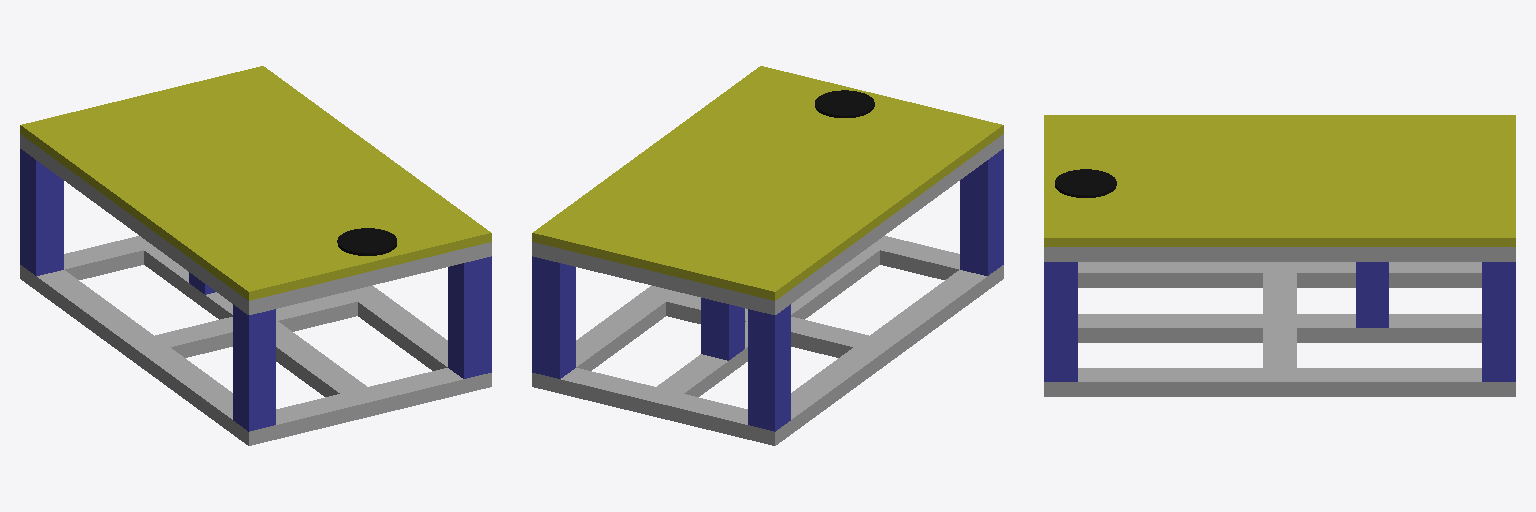
--- Facts derived from the render (not from the file) ---
Views: 3 orthographic renders of the robot side by side, from view 1: azimuth 30°, elevation 25°; view 2: azimuth 150°, elevation 25°; view 3: azimuth 270°, elevation 25°.
Robot: ur5_hitbot_with_ilc_platform — 32 links, 31 joints (6 revolute, 25 fixed); root link world; default pose: every joint at zero.
Visible links, largest first — view 1: operation_surface, beam_right_bottom, beam_front_bottom, beam_support_front_right, beam_support_front_left, beam_middle_bottom, beam_support_back_right, beam_front_top, beam_left_bottom, beam_right_top, beam_back_bottom, beam_connect_left_bottom (+2 smaller); view 2: operation_surface, beam_right_bottom, beam_back_bottom, beam_support_back_right, beam_support_back_left, beam_support_front_right, beam_middle_bottom, beam_back_top, beam_left_bottom, beam_right_top, beam_front_bottom, beam_support_robot_bottom (+3 smaller); view 3: operation_surface, beam_left_bottom, beam_middle_bottom, beam_right_bottom, beam_left_top, beam_support_front_left, beam_support_back_left, beam_support_robot_bottom, robot_install_plate, beam_connect_right_bottom, beam_connect_left_bottom.
Link boxes in pixels (<box>): operation_surface: <box>20,66,491,300</box>; beam_right_bottom: <box>36,270,232,433</box>; beam_front_bottom: <box>233,368,491,445</box>; beam_support_front_right: <box>233,304,275,431</box>; beam_support_front_left: <box>448,256,491,378</box>; beam_middle_bottom: <box>144,247,366,396</box>; beam_support_back_right: <box>20,149,63,275</box>; beam_front_top: <box>233,242,491,314</box>; beam_left_bottom: <box>345,285,447,370</box>; beam_right_top: <box>36,146,232,303</box>; beam_back_bottom: <box>20,236,154,289</box>; beam_connect_left_bottom: <box>276,292,357,331</box>; operation_surface: <box>532,66,1003,300</box>; beam_right_bottom: <box>791,270,987,433</box>; beam_back_bottom: <box>532,368,790,445</box>; beam_support_back_right: <box>748,304,790,431</box>; beam_support_back_left: <box>532,256,575,378</box>; beam_support_front_right: <box>960,149,1003,275</box>; beam_middle_bottom: <box>657,247,879,396</box>; beam_back_top: <box>532,242,790,314</box>; beam_left_bottom: <box>576,285,678,370</box>; beam_right_top: <box>791,146,987,303</box>; beam_front_bottom: <box>869,236,1003,289</box>; beam_support_robot_bottom: <box>701,298,744,360</box>; operation_surface: <box>1044,115,1515,246</box>; beam_left_bottom: <box>1078,368,1481,396</box>; beam_middle_bottom: <box>1078,314,1481,342</box>; beam_right_bottom: <box>1078,262,1481,287</box>; beam_left_top: <box>1078,247,1481,261</box>; beam_support_front_left: <box>1044,262,1077,381</box>; beam_support_back_left: <box>1482,262,1515,381</box>; beam_support_robot_bottom: <box>1356,262,1388,327</box>; robot_install_plate: <box>1055,169,1116,197</box>; beam_connect_right_bottom: <box>1263,273,1296,313</box>; beam_connect_left_bottom: <box>1263,328,1296,367</box>.
Size in the robot's own frame: 0.7 by 1.14 by 0.4325 metres.
Meshes: 7 distinct files referenced, 0 mesh visuals loaded (none loaded); not drawn: 7 (reference not matched to a file when rendering).

The robot description file, URDF, robot "ur5_hitbot_with_ilc_platform":
<?xml version="1.0" ?>
<!-- =================================================================================== -->
<!-- |    This document was autogenerated by xacro from src/ur5_vision_pick/ur5_description/urdf//ur5_hitbot_with_ilc_platform.urdf.xacro | -->
<!-- |    EDITING THIS FILE BY HAND IS NOT RECOMMENDED                                 | -->
<!-- =================================================================================== -->
<!--
Copyright (c) 2018 Intel Corporation

Licensed under the Apache License, Version 2.0 (the "License");
you may not use this file except in compliance with the License.
You may obtain a copy of the License at

     http://www.apache.org/licenses/LICENSE-2.0

Unless required by applicable law or agreed to in writing, software
distributed under the License is distributed on an "AS IS" BASIS,
WITHOUT WARRANTIES OR CONDITIONS OF ANY KIND, either express or implied.
See the License for the specific language governing permissions and
limitations under the License.
-->
<robot name="ur5_hitbot_with_ilc_platform" xmlns:xacro="http://ros.org/wiki/xacro">
  <gazebo>
    <plugin filename="libgazebo_ros_control.so" name="ros_control">
      <!--robotNamespace>/</robotNamespace-->
      <!--robotSimType>gazebo_ros_control/DefaultRobotHWSim</robotSimType-->
    </plugin>
    <!--
    <plugin name="gazebo_ros_power_monitor_controller" filename="libgazebo_ros_power_monitor.so">
      <alwaysOn>true</alwaysOn>
      <updateRate>1.0</updateRate>
      <timeout>5</timeout>
      <powerStateTopic>power_state</powerStateTopic>
      <powerStateRate>10.0</powerStateRate>
      <fullChargeCapacity>87.78</fullChargeCapacity>     
      <dischargeRate>-474</dischargeRate>
      <chargeRate>525</chargeRate>
      <dischargeVoltage>15.52</dischargeVoltage>
      <chargeVoltage>16.41</chargeVoltage>
    </plugin>
-->
  </gazebo>
  <link name="platform_base"/>
  <link name="beam_support_front_right">
    <visual>
      <origin rpy="0 0 0" xyz="0 0 0"/>
      <geometry>
        <box size="0.08 0.08 0.32"/>
      </geometry>
      <material name="grey_blue">
        <color rgba="0.3 0.3 0.7 1.0"/>
      </material>
    </visual>
    <collision>
      <origin rpy="0 0 0" xyz="0 0 0"/>
      <geometry>
        <box size="0.08 0.08 0.32"/>
      </geometry>
    </collision>
  </link>
  <joint name="platform_base_beam_support_front_right_joint" type="fixed">
    <parent link="platform_base"/>
    <child link="beam_support_front_right"/>
    <origin rpy="0.0 0.0 0.0" xyz="-0.31                             -0.53                             0.275"/>
  </joint>
  <!-- Individual link colouring still needed in Gazebo 2.x -->
  <gazebo reference="beam_support_front_right">
    <material>Gazebo/Blue</material>
  </gazebo>
  <link name="beam_support_front_left">
    <visual>
      <origin rpy="0 0 0" xyz="0 0 0"/>
      <geometry>
        <box size="0.08 0.08 0.32"/>
      </geometry>
      <material name="grey_blue">
        <color rgba="0.3 0.3 0.7 1.0"/>
      </material>
    </visual>
    <collision>
      <origin rpy="0 0 0" xyz="0 0 0"/>
      <geometry>
        <box size="0.08 0.08 0.32"/>
      </geometry>
    </collision>
  </link>
  <joint name="platform_base_beam_support_front_left_joint" type="fixed">
    <parent link="platform_base"/>
    <child link="beam_support_front_left"/>
    <origin rpy="0.0 0.0 0.0" xyz="0.31                             -0.53                             0.275"/>
  </joint>
  <!-- Individual link colouring still needed in Gazebo 2.x -->
  <gazebo reference="beam_support_front_left">
    <material>Gazebo/Blue</material>
  </gazebo>
  <link name="beam_support_back_right">
    <visual>
      <origin rpy="0 0 0" xyz="0 0 0"/>
      <geometry>
        <box size="0.08 0.08 0.32"/>
      </geometry>
      <material name="grey_blue">
        <color rgba="0.3 0.3 0.7 1.0"/>
      </material>
    </visual>
    <collision>
      <origin rpy="0 0 0" xyz="0 0 0"/>
      <geometry>
        <box size="0.08 0.08 0.32"/>
      </geometry>
    </collision>
  </link>
  <joint name="platform_base_beam_support_back_right_joint" type="fixed">
    <parent link="platform_base"/>
    <child link="beam_support_back_right"/>
    <origin rpy="0.0 0.0 0.0" xyz="-0.31                             0.53                             0.275"/>
  </joint>
  <!-- Individual link colouring still needed in Gazebo 2.x -->
  <gazebo reference="beam_support_back_right">
    <material>Gazebo/Blue</material>
  </gazebo>
  <link name="beam_support_back_left">
    <visual>
      <origin rpy="0 0 0" xyz="0 0 0"/>
      <geometry>
        <box size="0.08 0.08 0.32"/>
      </geometry>
      <material name="grey_blue">
        <color rgba="0.3 0.3 0.7 1.0"/>
      </material>
    </visual>
    <collision>
      <origin rpy="0 0 0" xyz="0 0 0"/>
      <geometry>
        <box size="0.08 0.08 0.32"/>
      </geometry>
    </collision>
  </link>
  <joint name="platform_base_beam_support_back_left_joint" type="fixed">
    <parent link="platform_base"/>
    <child link="beam_support_back_left"/>
    <origin rpy="0.0 0.0 0.0" xyz="0.31                             0.53                             0.275"/>
  </joint>
  <!-- Individual link colouring still needed in Gazebo 2.x -->
  <gazebo reference="beam_support_back_left">
    <material>Gazebo/Blue</material>
  </gazebo>
  <link name="beam_support_robot_bottom">
    <visual>
      <origin rpy="0 0 0" xyz="0 0 0"/>
      <geometry>
        <box size="0.08 0.08 0.32"/>
      </geometry>
      <material name="grey_blue">
        <color rgba="0.3 0.3 0.7 1.0"/>
      </material>
    </visual>
    <collision>
      <origin rpy="0 0 0" xyz="0 0 0"/>
      <geometry>
        <box size="0.08 0.08 0.32"/>
      </geometry>
    </collision>
  </link>
  <joint name="platform_base_beam_support_robot_bottom_joint" type="fixed">
    <parent link="platform_base"/>
    <child link="beam_support_robot_bottom"/>
    <origin rpy="0.0 0.0 0.0" xyz="0.0                             0.225                             0.275"/>
  </joint>
  <!-- Individual link colouring still needed in Gazebo 2.x -->

  <!-- <gazebo reference="beam_support_robot_bottom">
    <material>Gazebo/Blue</material>
  </gazebo>

  <link name="beam_support_robot_top">
    <visual>
      <origin rpy="0 0 0" xyz="0 0 0"/>
      <geometry>
        <box size="0.08 0.08 0.0"/>
      </geometry>
      <material name="grey_blue">
        <color rgba="0.3 0.3 0.7 1.0"/>
      </material>
    </visual>
    <collision>
      <origin rpy="0 0 0" xyz="0 0 0"/>
      <geometry>
        <box size="0.08 0.08 0.15"/>
      </geometry>
    </collision>
  </link>

  <joint name="platform_base_beam_support_robot_top_joint" type="fixed">
    <parent link="platform_base"/>
    <child link="beam_support_robot_top"/>
    <origin rpy="0.0 0.0 0.0" xyz="0.0                             0.225                             0.55"/>
  </joint> -->

  <!-- Individual link colouring still needed in Gazebo 2.x -->
  <!-- <gazebo reference="beam_support_robot_top">
    <material>Gazebo/Blue</material>
  </gazebo> -->
  <link name="beam_middle_bottom">
    <visual>
      <origin rpy="0 0 0" xyz="0 0 0"/>
      <geometry>
        <box size="0.08 0.98 0.04"/>
      </geometry>
      <material name="dark_grey">
        <color rgba="0.7 0.7 0.7 1.0"/>
      </material>
    </visual>
    <collision>
      <origin rpy="0 0 0" xyz="0 0 0"/>
      <geometry>
        <box size="0.08 0.98 0.04"/>
      </geometry>
    </collision>
  </link>
  <joint name="platform_base_beam_middle_bottom_joint" type="fixed">
    <parent link="platform_base"/>
    <child link="beam_middle_bottom"/>
    <origin rpy="0.0 0.0 0.0" xyz="0.0 0.0 0.095"/>
  </joint>
  <!-- Individual link colouring still needed in Gazebo 2.x -->
  <gazebo reference="beam_middle_bottom">
    <material>Gazebo/Grey</material>
  </gazebo>
  <link name="beam_middle_top">
    <visual>
      <origin rpy="0 0 0" xyz="0 0 0"/>
      <geometry>
        <box size="0.08 0.98 0.04"/>
      </geometry>
      <material name="dark_grey">
        <color rgba="0.7 0.7 0.7 1.0"/>
      </material>
    </visual>
    <collision>
      <origin rpy="0 0 0" xyz="0 0 0"/>
      <geometry>
        <box size="0.08 0.98 0.04"/>
      </geometry>
    </collision>
  </link>
  <joint name="platform_base_beam_middle_top_joint" type="fixed">
    <parent link="platform_base"/>
    <child link="beam_middle_top"/>
    <origin rpy="0.0 0.0 0.0" xyz="0.0 0.0 0.455"/>
  </joint>
  <!-- Individual link colouring still needed in Gazebo 2.x -->
  <gazebo reference="beam_middle_top">
    <material>Gazebo/Grey</material>
  </gazebo>
  <link name="beam_left_bottom">
    <visual>
      <origin rpy="0 0 0" xyz="0 0 0"/>
      <geometry>
        <box size="0.08 0.98 0.04"/>
      </geometry>
      <material name="dark_grey">
        <color rgba="0.7 0.7 0.7 1.0"/>
      </material>
    </visual>
    <collision>
      <origin rpy="0 0 0" xyz="0 0 0"/>
      <geometry>
        <box size="0.08 0.98 0.04"/>
      </geometry>
    </collision>
  </link>
  <joint name="platform_base_beam_left_bottom_joint" type="fixed">
    <parent link="platform_base"/>
    <child link="beam_left_bottom"/>
    <origin rpy="0.0 0.0 0.0" xyz="0.31                           0.0                           0.095"/>
  </joint>
  <!-- Individual link colouring still needed in Gazebo 2.x -->
  <gazebo reference="beam_left_bottom">
    <material>Gazebo/Grey</material>
  </gazebo>
  <link name="beam_left_top">
    <visual>
      <origin rpy="0 0 0" xyz="0 0 0"/>
      <geometry>
        <box size="0.08 0.98 0.04"/>
      </geometry>
      <material name="dark_grey">
        <color rgba="0.7 0.7 0.7 1.0"/>
      </material>
    </visual>
    <collision>
      <origin rpy="0 0 0" xyz="0 0 0"/>
      <geometry>
        <box size="0.08 0.98 0.04"/>
      </geometry>
    </collision>
  </link>
  <joint name="platform_base_beam_left_top_joint" type="fixed">
    <parent link="platform_base"/>
    <child link="beam_left_top"/>
    <origin rpy="0.0 0.0 0.0" xyz="0.31                           0.0                           0.455"/>
  </joint>
  <!-- Individual link colouring still needed in Gazebo 2.x -->
  <gazebo reference="beam_left_top">
    <material>Gazebo/Grey</material>
  </gazebo>
  <link name="beam_right_bottom">
    <visual>
      <origin rpy="0 0 0" xyz="0 0 0"/>
      <geometry>
        <box size="0.08 0.98 0.04"/>
      </geometry>
      <material name="dark_grey">
        <color rgba="0.7 0.7 0.7 1.0"/>
      </material>
    </visual>
    <collision>
      <origin rpy="0 0 0" xyz="0 0 0"/>
      <geometry>
        <box size="0.08 0.98 0.04"/>
      </geometry>
    </collision>
  </link>
  <joint name="platform_base_beam_right_bottom_joint" type="fixed">
    <parent link="platform_base"/>
    <child link="beam_right_bottom"/>
    <origin rpy="0.0 0.0 0.0" xyz="-0.31                           0.0                           0.095"/>
  </joint>
  <!-- Individual link colouring still needed in Gazebo 2.x -->
  <gazebo reference="beam_right_bottom">
    <material>Gazebo/Grey</material>
  </gazebo>
  <link name="beam_right_top">
    <visual>
      <origin rpy="0 0 0" xyz="0 0 0"/>
      <geometry>
        <box size="0.08 0.98 0.04"/>
      </geometry>
      <material name="dark_grey">
        <color rgba="0.7 0.7 0.7 1.0"/>
      </material>
    </visual>
    <collision>
      <origin rpy="0 0 0" xyz="0 0 0"/>
      <geometry>
        <box size="0.08 0.98 0.04"/>
      </geometry>
    </collision>
  </link>
  <joint name="platform_base_beam_right_top_joint" type="fixed">
    <parent link="platform_base"/>
    <child link="beam_right_top"/>
    <origin rpy="0.0 0.0 0.0" xyz="-0.31                           0.0                           0.455"/>
  </joint>
  <!-- Individual link colouring still needed in Gazebo 2.x -->
  <gazebo reference="beam_right_top">
    <material>Gazebo/Grey</material>
  </gazebo>
  <link name="beam_front_bottom">
    <visual>
      <origin rpy="0 0 0" xyz="0 0 0"/>
      <geometry>
        <box size="0.7 0.08 0.04"/>
      </geometry>
      <material name="dark_grey">
        <color rgba="0.7 0.7 0.7 1.0"/>
      </material>
    </visual>
    <collision>
      <origin rpy="0 0 0" xyz="0 0 0"/>
      <geometry>
        <box size="0.7 0.08 0.04"/>
      </geometry>
    </collision>
  </link>
  <joint name="platform_base_beam_front_bottom_joint" type="fixed">
    <parent link="platform_base"/>
    <child link="beam_front_bottom"/>
    <origin rpy="0.0 0.0 0.0" xyz="0.0                          -0.53                           0.095"/>
  </joint>
  <!-- Individual link colouring still needed in Gazebo 2.x -->
  <gazebo reference="beam_front_bottom">
    <material>Gazebo/Grey</material>
  </gazebo>
  <link name="beam_front_top">
    <visual>
      <origin rpy="0 0 0" xyz="0 0 0"/>
      <geometry>
        <box size="0.7 0.08 0.04"/>
      </geometry>
      <material name="dark_grey">
        <color rgba="0.7 0.7 0.7 1.0"/>
      </material>
    </visual>
    <collision>
      <origin rpy="0 0 0" xyz="0 0 0"/>
      <geometry>
        <box size="0.7 0.08 0.04"/>
      </geometry>
    </collision>
  </link>
  <joint name="platform_base_beam_front_top_joint" type="fixed">
    <parent link="platform_base"/>
    <child link="beam_front_top"/>
    <origin rpy="0.0 0.0 0.0" xyz="0.0                          -0.53                           0.455"/>
  </joint>
  <!-- Individual link colouring still needed in Gazebo 2.x -->
  <gazebo reference="beam_front_top">
    <material>Gazebo/Grey</material>
  </gazebo>
  <link name="beam_back_bottom">
    <visual>
      <origin rpy="0 0 0" xyz="0 0 0"/>
      <geometry>
        <box size="0.7 0.08 0.04"/>
      </geometry>
      <material name="dark_grey">
        <color rgba="0.7 0.7 0.7 1.0"/>
      </material>
    </visual>
    <collision>
      <origin rpy="0 0 0" xyz="0 0 0"/>
      <geometry>
        <box size="0.7 0.08 0.04"/>
      </geometry>
    </collision>
  </link>
  <joint name="platform_base_beam_back_bottom_joint" type="fixed">
    <parent link="platform_base"/>
    <child link="beam_back_bottom"/>
    <origin rpy="0.0 0.0 0.0" xyz="0.0                          0.53                           0.095"/>
  </joint>
  <!-- Individual link colouring still needed in Gazebo 2.x -->
  <gazebo reference="beam_back_bottom">
    <material>Gazebo/Grey</material>
  </gazebo>
  <link name="beam_back_top">
    <visual>
      <origin rpy="0 0 0" xyz="0 0 0"/>
      <geometry>
        <box size="0.7 0.08 0.04"/>
      </geometry>
      <material name="dark_grey">
        <color rgba="0.7 0.7 0.7 1.0"/>
      </material>
    </visual>
    <collision>
      <origin rpy="0 0 0" xyz="0 0 0"/>
      <geometry>
        <box size="0.7 0.08 0.04"/>
      </geometry>
    </collision>
  </link>
  <joint name="platform_base_beam_back_top_joint" type="fixed">
    <parent link="platform_base"/>
    <child link="beam_back_top"/>
    <origin rpy="0.0 0.0 0.0" xyz="0.0                          0.53                           0.455"/>
  </joint>
  <!-- Individual link colouring still needed in Gazebo 2.x -->
  <gazebo reference="beam_back_top">
    <material>Gazebo/Grey</material>
  </gazebo>
  <link name="beam_connect_left_bottom">
    <visual>
      <origin rpy="0 0 0" xyz="0 0 0"/>
      <geometry>
        <box size="0.23 0.08 0.04"/>
      </geometry>
      <material name="dark_grey">
        <color rgba="0.7 0.7 0.7 1.0"/>
      </material>
    </visual>
    <collision>
      <origin rpy="0 0 0" xyz="0 0 0"/>
      <geometry>
        <box size="0.23 0.08 0.04"/>
      </geometry>
    </collision>
  </link>
  <joint name="platform_base_beam_connect_left_bottom_joint" type="fixed">
    <parent link="platform_base"/>
    <child link="beam_connect_left_bottom"/>
    <origin rpy="0.0 0.0 0.0" xyz="0.155                          0.0                          0.095"/>
  </joint>
  <!-- Individual link colouring still needed in Gazebo 2.x -->
  <gazebo reference="beam_connect_left_bottom">
    <material>Gazebo/Grey</material>
  </gazebo>
  <link name="beam_connect_left_top">
    <visual>
      <origin rpy="0 0 0" xyz="0 0 0"/>
      <geometry>
        <box size="0.23 0.08 0.04"/>
      </geometry>
      <material name="dark_grey">
        <color rgba="0.7 0.7 0.7 1.0"/>
      </material>
    </visual>
    <collision>
      <origin rpy="0 0 0" xyz="0 0 0"/>
      <geometry>
        <box size="0.23 0.08 0.04"/>
      </geometry>
    </collision>
  </link>
  <joint name="platform_base_beam_connect_left_top_joint" type="fixed">
    <parent link="platform_base"/>
    <child link="beam_connect_left_top"/>
    <origin rpy="0.0 0.0 0.0" xyz="0.155                          0.0                          0.455"/>
  </joint>
  <!-- Individual link colouring still needed in Gazebo 2.x -->
  <gazebo reference="beam_connect_left_top">
    <material>Gazebo/Grey</material>
  </gazebo>
  <link name="beam_connect_right_bottom">
    <visual>
      <origin rpy="0 0 0" xyz="0 0 0"/>
      <geometry>
        <box size="0.23 0.08 0.04"/>
      </geometry>
      <material name="dark_grey">
        <color rgba="0.7 0.7 0.7 1.0"/>
      </material>
    </visual>
    <collision>
      <origin rpy="0 0 0" xyz="0 0 0"/>
      <geometry>
        <box size="0.23 0.08 0.04"/>
      </geometry>
    </collision>
  </link>
  <joint name="platform_base_beam_connect_right_bottom_joint" type="fixed">
    <parent link="platform_base"/>
    <child link="beam_connect_right_bottom"/>
    <origin rpy="0.0 0.0 0.0" xyz="-0.155                          0.0                          0.095"/>
  </joint>
  <!-- Individual link colouring still needed in Gazebo 2.x -->
  <gazebo reference="beam_connect_right_bottom">
    <material>Gazebo/Grey</material>
  </gazebo>
  <link name="beam_connect_right_top">
    <visual>
      <origin rpy="0 0 0" xyz="0 0 0"/>
      <geometry>
        <box size="0.23 0.08 0.04"/>
      </geometry>
      <material name="dark_grey">
        <color rgba="0.7 0.7 0.7 1.0"/>
      </material>
    </visual>
    <collision>
      <origin rpy="0 0 0" xyz="0 0 0"/>
      <geometry>
        <box size="0.23 0.08 0.04"/>
      </geometry>
    </collision>
  </link>
  <joint name="platform_base_beam_connect_right_top_joint" type="fixed">
    <parent link="platform_base"/>
    <child link="beam_connect_right_top"/>
    <origin rpy="0.0 0.0 0.0" xyz="-0.155                          0.0                          0.455"/>
  </joint>
  <!-- Individual link colouring still needed in Gazebo 2.x -->
  <gazebo reference="beam_connect_right_top">
    <material>Gazebo/Grey</material>
  </gazebo>

  <link name="operation_surface">
    <visual>
      <origin rpy="0 0 0" xyz="0 0.27 -0.0125"/>
      <geometry>
        <box size="0.7 1.14 0.025"/>
      </geometry>
      <material name="grey_yellow">
        <color rgba="0.7 0.7 0.2 1.0"/>
      </material>
    </visual>
    <collision>
      <origin rpy="0 0 0" xyz="0 0 -0.0125"/>
      <geometry>
        <box size="0.7 0.6 0.025"/>
      </geometry>
    </collision>
  </link>
  <joint name="platform_base_operation_surface_joint" type="fixed">
    <parent link="platform_base"/>
    <child link="operation_surface"/>
    <origin rpy="0.0 0.0 0.0" xyz="0.0                   -0.27                   0.5"/>
  </joint>
  <!-- Individual link colouring still needed in Gazebo 2.x -->
  <gazebo reference="operation_surface">
    <material>Gazebo/Wood</material>
  </gazebo>
  <link name="robot_install_plate">
    <visual>
      <origin rpy="0 0 0" xyz="0 0 0"/>
      <geometry>
        <cylinder length="0.015" radius="0.075"/>
      </geometry>
      <material name="dark_black">
        <color rgba="0.1 0.1 0.1 1.0"/>
      </material>
    </visual>
    <collision>
      <origin rpy="0 0 0" xyz="0 0 0"/>
      <geometry>
        <cylinder length="0.015" radius="0.075"/>
      </geometry>
    </collision>
  </link>
  <joint name="platform_base_robot_install_plate_joint" type="fixed">
    <!-- <parent link="beam_support_robot_top"/> -->
    <parent link="operation_surface"/>
    <child link="robot_install_plate"/>
    <origin rpy="0.0 0.0 0.0" xyz="0.05                   -0.2                   0.0"/>
  </joint>
  <!-- Individual link colouring still needed in Gazebo 2.x -->
  <gazebo reference="robot_install_plate">
    <material>Gazebo/FlatBlack</material>
  </gazebo>
  <!-- measured from model -->
  <!--property name="shoulder_height" value="0.089159" /-->
  <!--property name="shoulder_offset" value="0.13585" /-->
  <!-- shoulder_offset - elbow_offset + wrist_1_length = 0.10915 -->
  <!--property name="upper_arm_length" value="0.42500" /-->
  <!--property name="elbow_offset" value="0.1197" /-->
  <!-- CAD measured -->
  <!--property name="forearm_length" value="0.39225" /-->
  <!--property name="wrist_1_length" value="0.093" /-->
  <!-- CAD measured -->
  <!--property name="wrist_2_length" value="0.09465" /-->
  <!-- In CAD this distance is 0.930, but in the spec it is 0.09465 -->
  <!--property name="wrist_3_length" value="0.0823" /-->
  <!-- manually measured -->
  <link name="base_link">
    <visual>
      <geometry>
        <mesh filename="package://ur_description/meshes/ur5/visual/base.dae"/>
      </geometry>
      <material name="LightGrey">
        <color rgba="0.7 0.7 0.7 1.0"/>
      </material>
    </visual>
    <collision>
      <geometry>
        <mesh filename="package://ur_description/meshes/ur5/collision/base.stl"/>
      </geometry>
    </collision>
    <inertial>
      <mass value="4.0"/>
      <origin rpy="0 0 0" xyz="0.0 0.0 0.0"/>
      <inertia ixx="0.00443333156" ixy="0.0" ixz="0.0" iyy="0.00443333156" iyz="0.0" izz="0.0072"/>
    </inertial>
  </link>
  <joint name="shoulder_pan_joint" type="revolute">
    <parent link="base_link"/>
    <child link="shoulder_link"/>
    <origin rpy="0.0 0.0 0.0" xyz="0.0 0.0 0.089159"/>
    <axis xyz="0 0 1"/>
    <limit effort="150.0" lower="-6.28318530718" upper="6.28318530718" velocity="3.15"/>
    <dynamics damping="0.0" friction="0.0"/>
  </joint>
  <link name="shoulder_link">
    <visual>
      <geometry>
        <mesh filename="package://ur_description/meshes/ur5/visual/shoulder.dae"/>
      </geometry>
      <material name="LightGrey">
        <color rgba="0.7 0.7 0.7 1.0"/>
      </material>
    </visual>
    <collision>
      <geometry>
        <mesh filename="package://ur_description/meshes/ur5/collision/shoulder.stl"/>
      </geometry>
    </collision>
    <inertial>
      <mass value="3.7"/>
      <origin rpy="0 0 0" xyz="0.0 0.0 0.0"/>
      <inertia ixx="0.010267495893" ixy="0.0" ixz="0.0" iyy="0.010267495893" iyz="0.0" izz="0.00666"/>
    </inertial>
  </link>
  <joint name="shoulder_lift_joint" type="revolute">
    <parent link="shoulder_link"/>
    <child link="upper_arm_link"/>
    <origin rpy="0.0 1.57079632679 0.0" xyz="0.0 0.13585 0.0"/>
    <axis xyz="0 1 0"/>
    <limit effort="150.0" lower="-6.28318530718" upper="6.28318530718" velocity="3.15"/>
    <dynamics damping="0.0" friction="0.0"/>
  </joint>
  <link name="upper_arm_link">
    <visual>
      <geometry>
        <mesh filename="package://ur_description/meshes/ur5/visual/upperarm.dae"/>
      </geometry>
      <material name="LightGrey">
        <color rgba="0.7 0.7 0.7 1.0"/>
      </material>
    </visual>
    <collision>
      <geometry>
        <mesh filename="package://ur_description/meshes/ur5/collision/upperarm.stl"/>
      </geometry>
    </collision>
    <inertial>
      <mass value="8.393"/>
      <origin rpy="0 0 0" xyz="0.0 0.0 0.28"/>
      <inertia ixx="0.22689067591" ixy="0.0" ixz="0.0" iyy="0.22689067591" iyz="0.0" izz="0.0151074"/>
    </inertial>
  </link>
  <joint name="elbow_joint" type="revolute">
    <parent link="upper_arm_link"/>
    <child link="forearm_link"/>
    <origin rpy="0.0 0.0 0.0" xyz="0.0 -0.1197 0.425"/>
    <axis xyz="0 1 0"/>
    <limit effort="150.0" lower="-3.14159265359" upper="3.14159265359" velocity="3.15"/>
    <dynamics damping="0.0" friction="0.0"/>
  </joint>
  <link name="forearm_link">
    <visual>
      <geometry>
        <mesh filename="package://ur_description/meshes/ur5/visual/forearm.dae"/>
      </geometry>
      <material name="LightGrey">
        <color rgba="0.7 0.7 0.7 1.0"/>
      </material>
    </visual>
    <collision>
      <geometry>
        <mesh filename="package://ur_description/meshes/ur5/collision/forearm.stl"/>
      </geometry>
    </collision>
    <inertial>
      <mass value="2.275"/>
      <origin rpy="0 0 0" xyz="0.0 0.0 0.25"/>
      <inertia ixx="0.049443313556" ixy="0.0" ixz="0.0" iyy="0.049443313556" iyz="0.0" izz="0.004095"/>
    </inertial>
  </link>
  <joint name="wrist_1_joint" type="revolute">
    <parent link="forearm_link"/>
    <child link="wrist_1_link"/>
    <origin rpy="0.0 1.57079632679 0.0" xyz="0.0 0.0 0.39225"/>
    <axis xyz="0 1 0"/>
    <limit effort="28.0" lower="-6.28318530718" upper="6.28318530718" velocity="3.2"/>
    <dynamics damping="0.0" friction="0.0"/>
  </joint>
  <link name="wrist_1_link">
    <visual>
      <geometry>
        <mesh filename="package://ur_description/meshes/ur5/visual/wrist1.dae"/>
      </geometry>
      <material name="LightGrey">
        <color rgba="0.7 0.7 0.7 1.0"/>
      </material>
    </visual>
    <collision>
      <geometry>
        <mesh filename="package://ur_description/meshes/ur5/collision/wrist1.stl"/>
      </geometry>
    </collision>
    <inertial>
      <mass value="1.219"/>
      <origin rpy="0 0 0" xyz="0.0 0.0 0.0"/>
      <inertia ixx="0.111172755531" ixy="0.0" ixz="0.0" iyy="0.111172755531" iyz="0.0" izz="0.21942"/>
    </inertial>
  </link>
  <joint name="wrist_2_joint" type="revolute">
    <parent link="wrist_1_link"/>
    <child link="wrist_2_link"/>
    <origin rpy="0.0 0.0 0.0" xyz="0.0 0.093 0.0"/>
    <axis xyz="0 0 1"/>
    <limit effort="28.0" lower="-6.28318530718" upper="6.28318530718" velocity="3.2"/>
    <dynamics damping="0.0" friction="0.0"/>
  </joint>
  <link name="wrist_2_link">
    <visual>
      <geometry>
        <mesh filename="package://ur_description/meshes/ur5/visual/wrist2.dae"/>
      </geometry>
      <material name="LightGrey">
        <color rgba="0.7 0.7 0.7 1.0"/>
      </material>
    </visual>
    <collision>
      <geometry>
        <mesh filename="package://ur_description/meshes/ur5/collision/wrist2.stl"/>
      </geometry>
    </collision>
    <inertial>
      <mass value="1.219"/>
      <origin rpy="0 0 0" xyz="0.0 0.0 0.0"/>
      <inertia ixx="0.111172755531" ixy="0.0" ixz="0.0" iyy="0.111172755531" iyz="0.0" izz="0.21942"/>
    </inertial>
  </link>
  <joint name="wrist_3_joint" type="revolute">
    <parent link="wrist_2_link"/>
    <child link="wrist_3_link"/>
    <origin rpy="0.0 0.0 0.0" xyz="0.0 0.0 0.09465"/>
    <axis xyz="0 1 0"/>
    <limit effort="28.0" lower="-6.28318530718" upper="6.28318530718" velocity="3.2"/>
    <dynamics damping="0.0" friction="0.0"/>
  </joint>
  <link name="wrist_3_link">
    <visual>
      <geometry>
        <mesh filename="package://ur_description/meshes/ur5/visual/wrist3.dae"/>
      </geometry>
      <material name="LightGrey">
        <color rgba="0.7 0.7 0.7 1.0"/>
      </material>
    </visual>
    <collision>
      <geometry>
        <mesh filename="package://ur_description/meshes/ur5/collision/wrist3.stl"/>
      </geometry>
    </collision>
    <inertial>
      <mass value="0.1879"/>
      <origin rpy="0 0 0" xyz="0.0 0.0 0.0"/>
      <inertia ixx="0.0171364731454" ixy="0.0" ixz="0.0" iyy="0.0171364731454" iyz="0.0" izz="0.033822"/>
    </inertial>
  </link>
  <joint name="ee_fixed_joint" type="fixed">
    <parent link="wrist_3_link"/>
    <child link="ee_link"/>
    <origin rpy="0.0 0.0 1.57079632679" xyz="0.0 0.0823 0.0"/>
  </joint>
  <link name="ee_link">
    <collision>
      <geometry>
        <box size="0.01 0.01 0.01"/>
      </geometry>
      <origin rpy="0 0 0" xyz="-0.01 0 0"/>
    </collision>
  </link>
  <transmission name="shoulder_pan_trans">
    <type>transmission_interface/SimpleTransmission</type>
    <joint name="shoulder_pan_joint">
      <hardwareInterface>hardware_interface/PositionJointInterface</hardwareInterface>
    </joint>
    <actuator name="shoulder_pan_motor">
      <mechanicalReduction>1</mechanicalReduction>
    </actuator>
  </transmission>
  <transmission name="shoulder_lift_trans">
    <type>transmission_interface/SimpleTransmission</type>
    <joint name="shoulder_lift_joint">
      <hardwareInterface>hardware_interface/PositionJointInterface</hardwareInterface>
    </joint>
    <actuator name="shoulder_lift_motor">
      <mechanicalReduction>1</mechanicalReduction>
    </actuator>
  </transmission>
  <transmission name="elbow_trans">
    <type>transmission_interface/SimpleTransmission</type>
    <joint name="elbow_joint">
      <hardwareInterface>hardware_interface/PositionJointInterface</hardwareInterface>
    </joint>
    <actuator name="elbow_motor">
      <mechanicalReduction>1</mechanicalReduction>
    </actuator>
  </transmission>
  <transmission name="wrist_1_trans">
    <type>transmission_interface/SimpleTransmission</type>
    <joint name="wrist_1_joint">
      <hardwareInterface>hardware_interface/PositionJointInterface</hardwareInterface>
    </joint>
    <actuator name="wrist_1_motor">
      <mechanicalReduction>1</mechanicalReduction>
    </actuator>
  </transmission>
  <transmission name="wrist_2_trans">
    <type>transmission_interface/SimpleTransmission</type>
    <joint name="wrist_2_joint">
      <hardwareInterface>hardware_interface/PositionJointInterface</hardwareInterface>
    </joint>
    <actuator name="wrist_2_motor">
      <mechanicalReduction>1</mechanicalReduction>
    </actuator>
  </transmission>
  <transmission name="wrist_3_trans">
    <type>transmission_interface/SimpleTransmission</type>
    <joint name="wrist_3_joint">
      <hardwareInterface>hardware_interface/PositionJointInterface</hardwareInterface>
    </joint>
    <actuator name="wrist_3_motor">
      <mechanicalReduction>1</mechanicalReduction>
    </actuator>
  </transmission>
  <gazebo reference="shoulder_link">
    <selfCollide>true</selfCollide>
  </gazebo>
  <gazebo reference="upper_arm_link">
    <selfCollide>true</selfCollide>
  </gazebo>
  <gazebo reference="forearm_link">
    <selfCollide>true</selfCollide>
  </gazebo>
  <gazebo reference="wrist_1_link">
    <selfCollide>true</selfCollide>
  </gazebo>
  <gazebo reference="wrist_3_link">
    <selfCollide>true</selfCollide>
  </gazebo>
  <gazebo reference="wrist_2_link">
    <selfCollide>true</selfCollide>
  </gazebo>
  <gazebo reference="ee_link">
    <selfCollide>true</selfCollide>
  </gazebo>
  <!-- ROS base_link to UR 'Base' Coordinates transform -->
  <link name="base"/>
  <joint name="base_link-base_fixed_joint" type="fixed">
    <!-- NOTE: this rotation is only needed as long as base_link itself is
                 not corrected wrt the real robot (ie: rotated over 180
                 degrees)
      -->
    <origin rpy="0 0 -3.14159265359" xyz="0 0 0"/>
    <parent link="base_link"/>
    <child link="base"/>
  </joint>
  <!-- Frame coincident with all-zeros TCP on UR controller -->
 
  <!-- world link -->
  <link name="world"/>
  <joint name="world_platform_joint" type="fixed">
    <parent link="world"/>
    <child link="platform_base"/>
    <origin rpy="0.0 0.0 0.0" xyz="0.0 0.0 0.0"/>
  </joint>
  <joint name="platform_base_link_joint" type="fixed">
    <parent link="robot_install_plate"/>
    <child link="base_link"/>
    <origin rpy="0.0 0.0 3.14159265359" xyz="0.0 0.0 0.0075"/>
  </joint>
  <!-- <joint name="tool0_hitbot_joint" type="fixed">
    <parent link="tool0"/>
    <child link="hitbot_base"/>
    <origin rpy="0.0 0.0 0.785398163397" xyz="0.0 0.0 0.0"/>
  </joint> -->
</robot>
